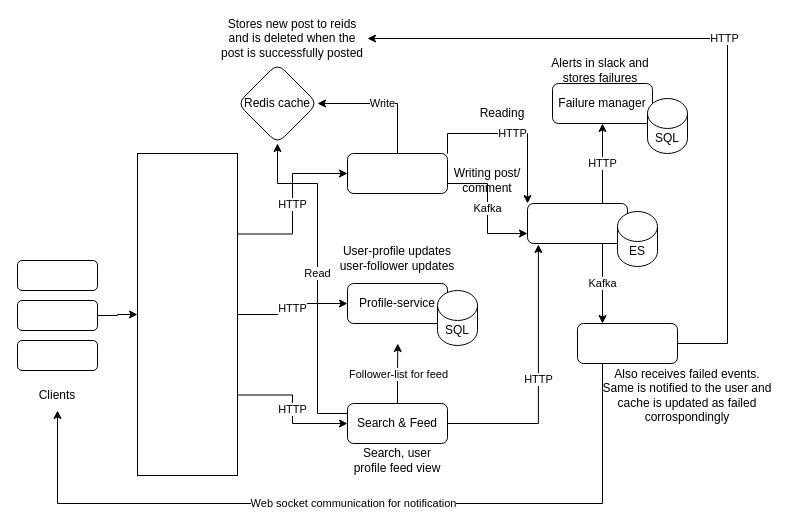
Some shapes in this 795 by 529 pixel diagram are drawn without their labels. Here are the shapes that lost their labels. From the top down, the centre of each, then its label:
At [397,173]: "Post-service".
At [577,223]: "Post-manager".
At [187,314]: "API GATEWAY rate-limiting ddos-attack security routing".
At [627,343]: "Notification manager".
